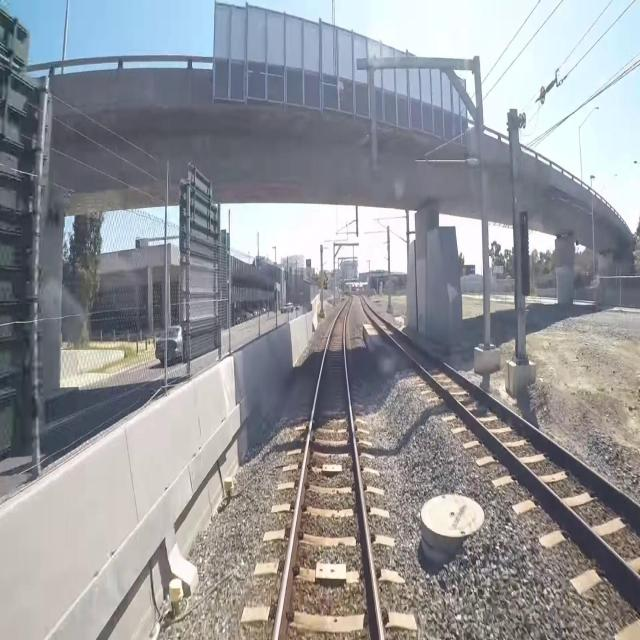rail-track: (277, 297, 378, 639)
